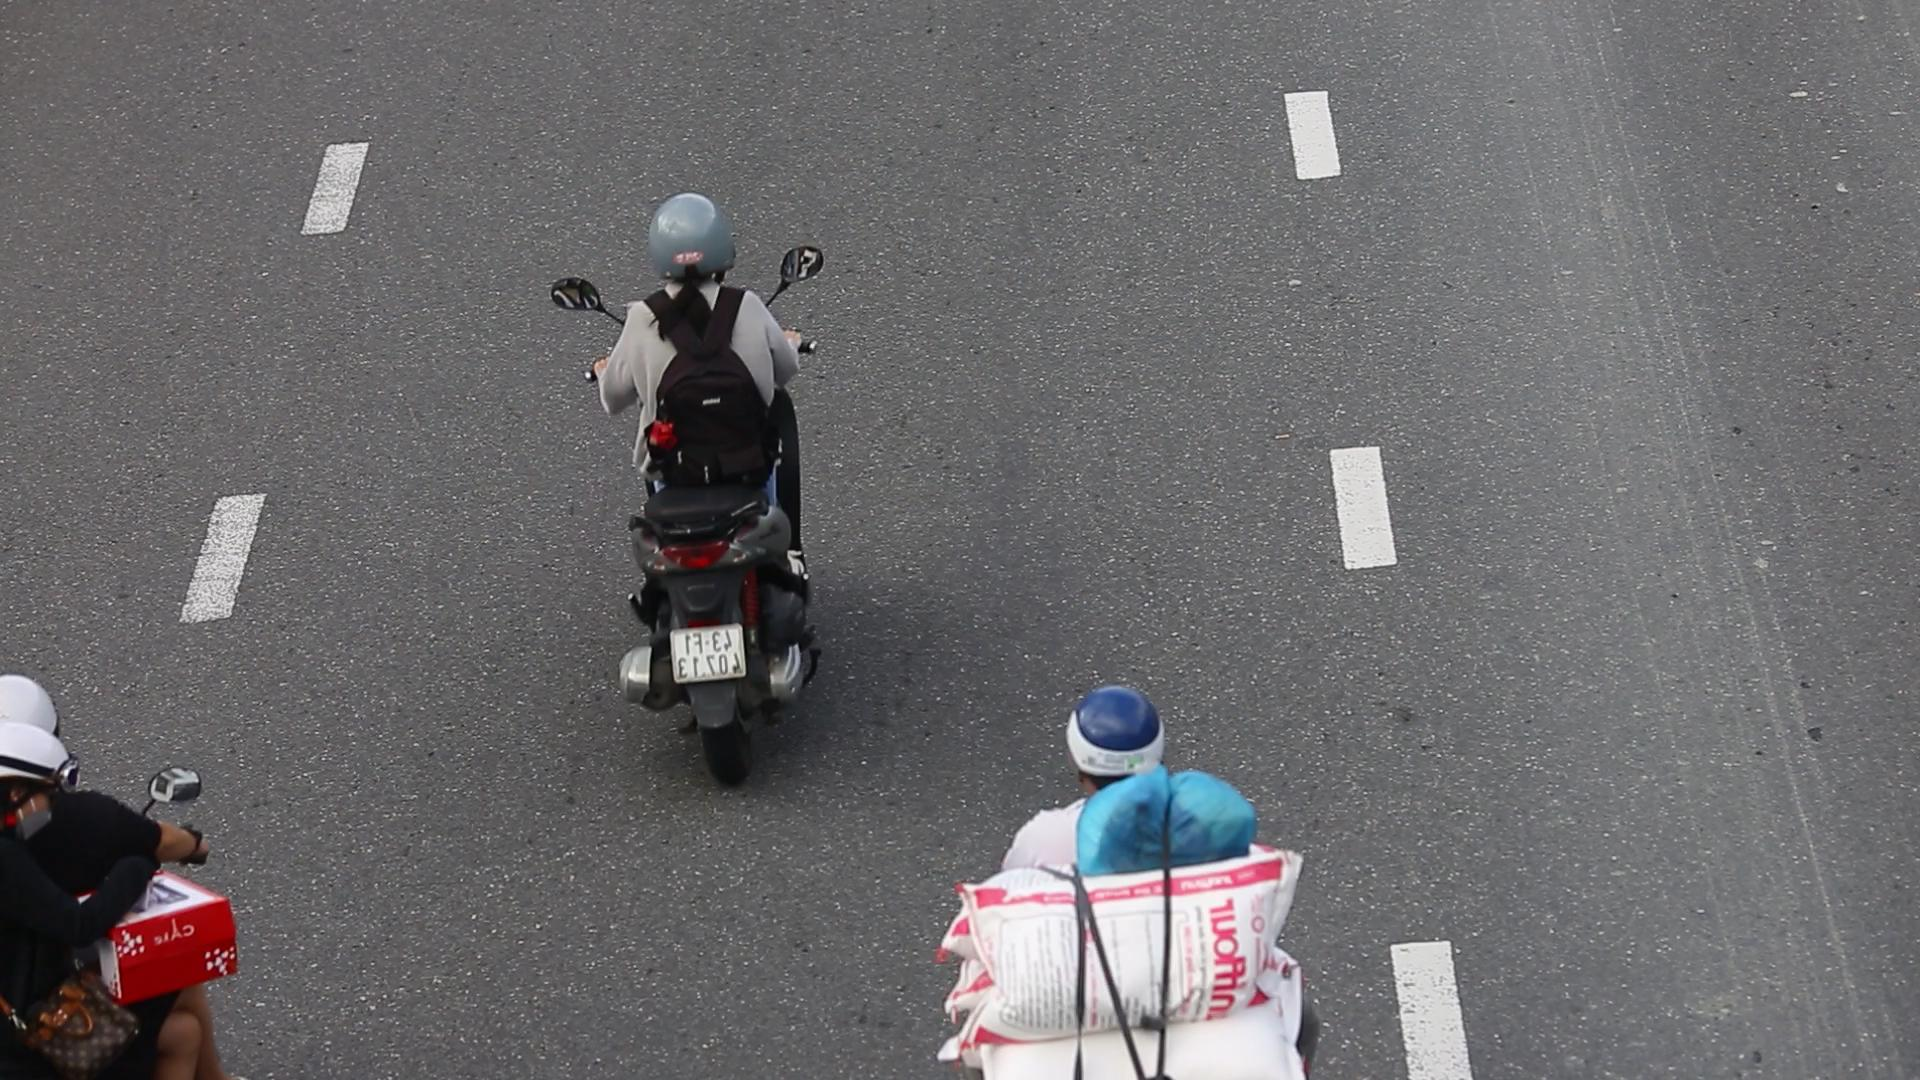motobike: (555, 190, 833, 794)
